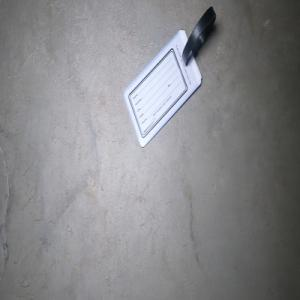LuggageTag: (122, 4, 217, 149)
